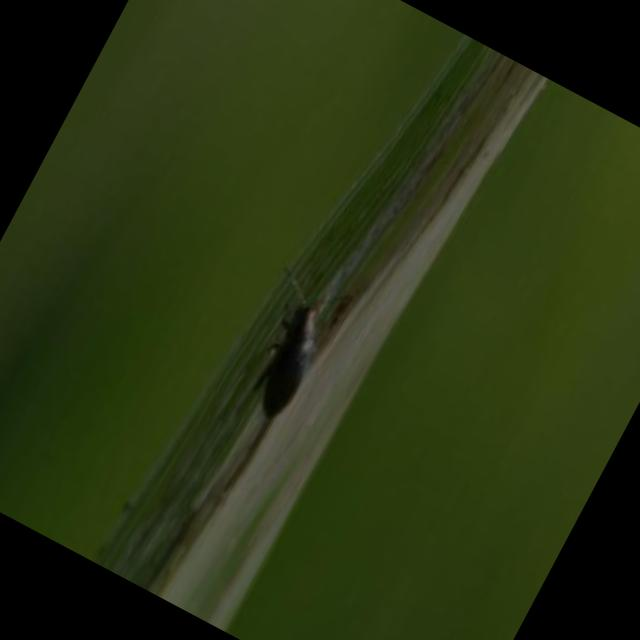rice-bug: (233, 279, 350, 432)
